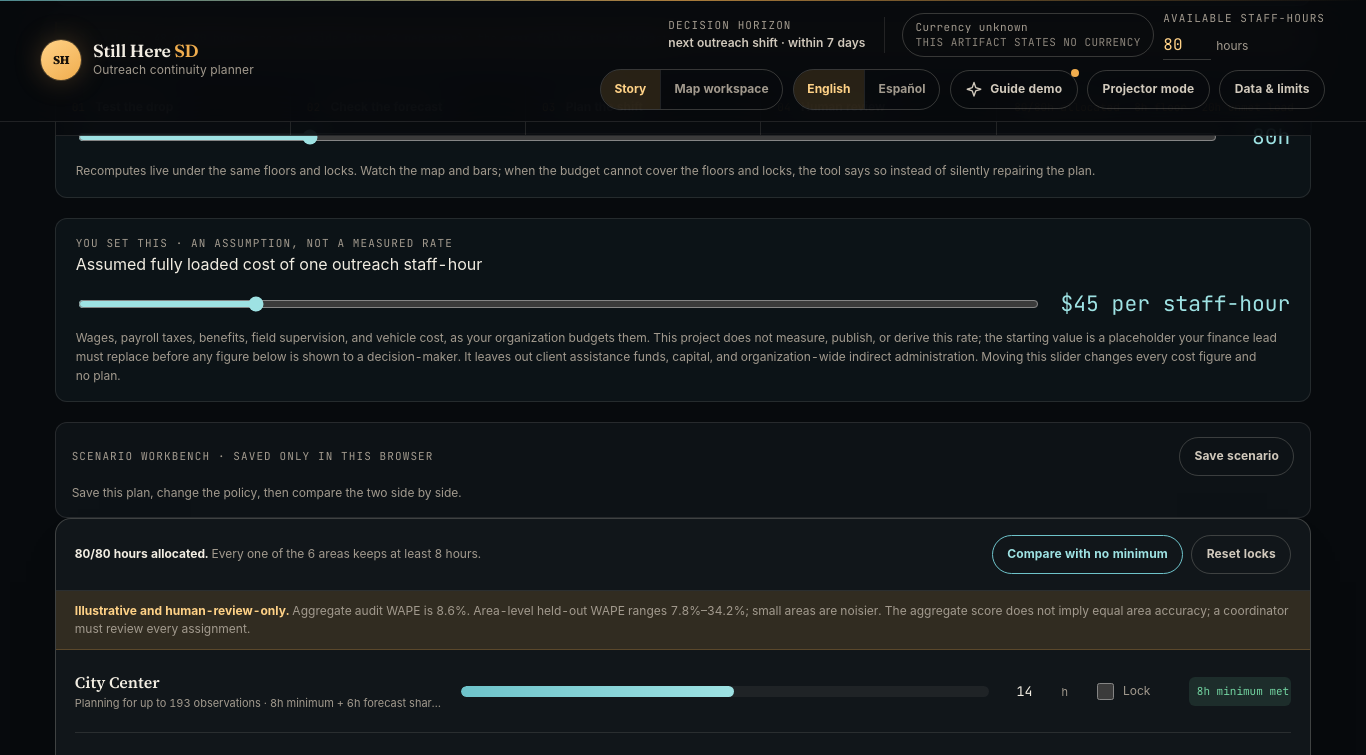
it: scenario workbench › deletes a saved scenario
(page scrolled)
Expected: the text "80/80 hours allocated." is shown, [75, 546, 208, 561]
What coordinates should you click on to do the following:
click the button "Save scenario"
I would click on:
 (1237, 456)
Its box is [1179, 437, 1294, 476].
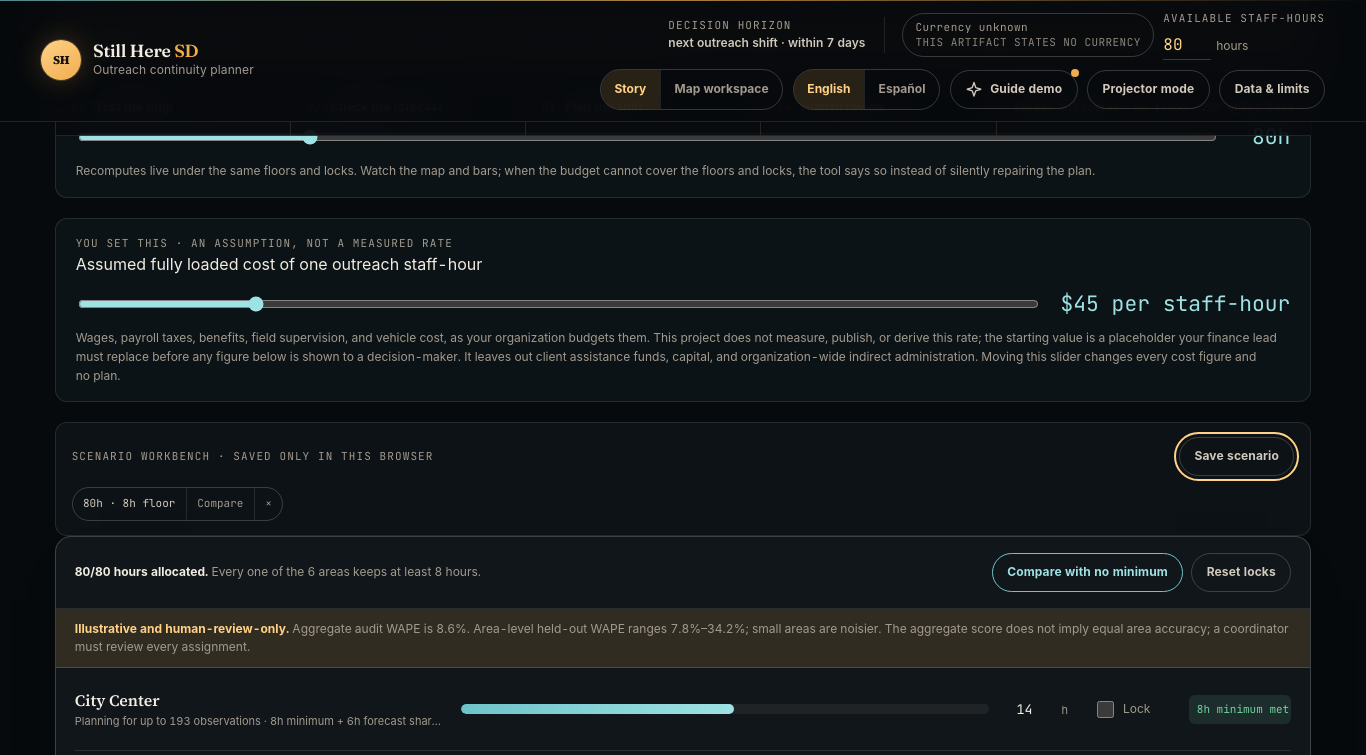
What coordinates should you click on to do the following:
click the button named "Delete scenario 80h · 8h floor"
I would click on:
 (268, 504)
Its box is [254, 488, 282, 520].
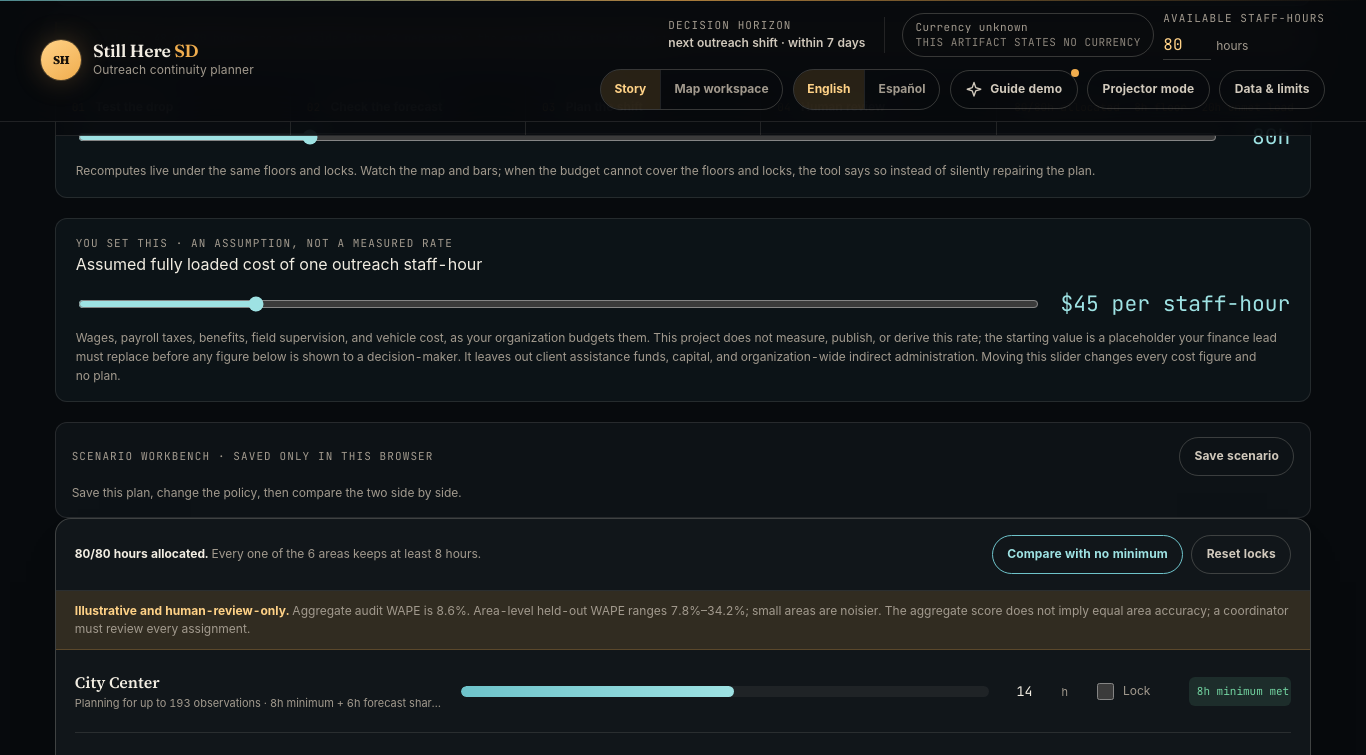
Now the button "80h · 8h floor" is gone
Now the text "Save this plan, change the policy" is shown, box [72, 485, 462, 500]
